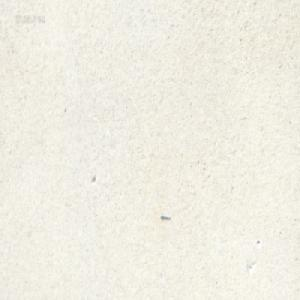Nail: (160, 212, 170, 220)
